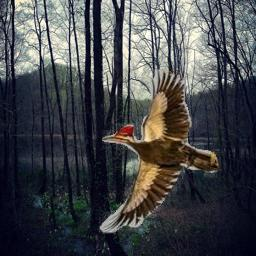Woodpecker: (99, 68, 221, 234)
